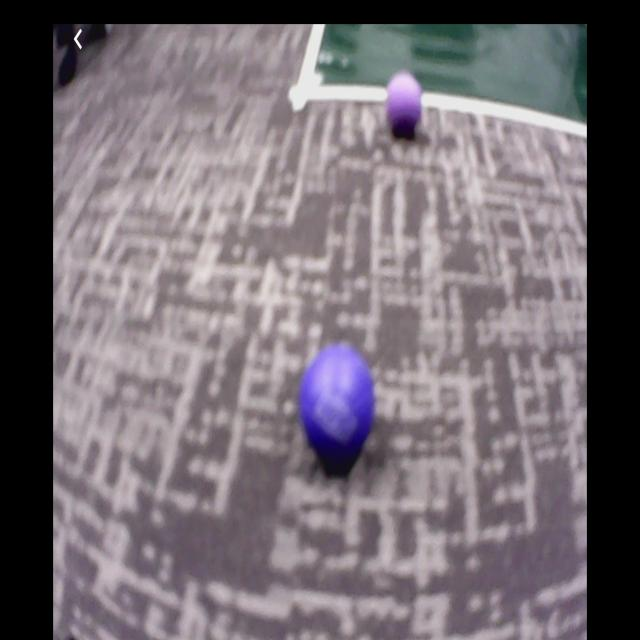ball: (303, 346, 376, 459), (387, 73, 423, 136)
